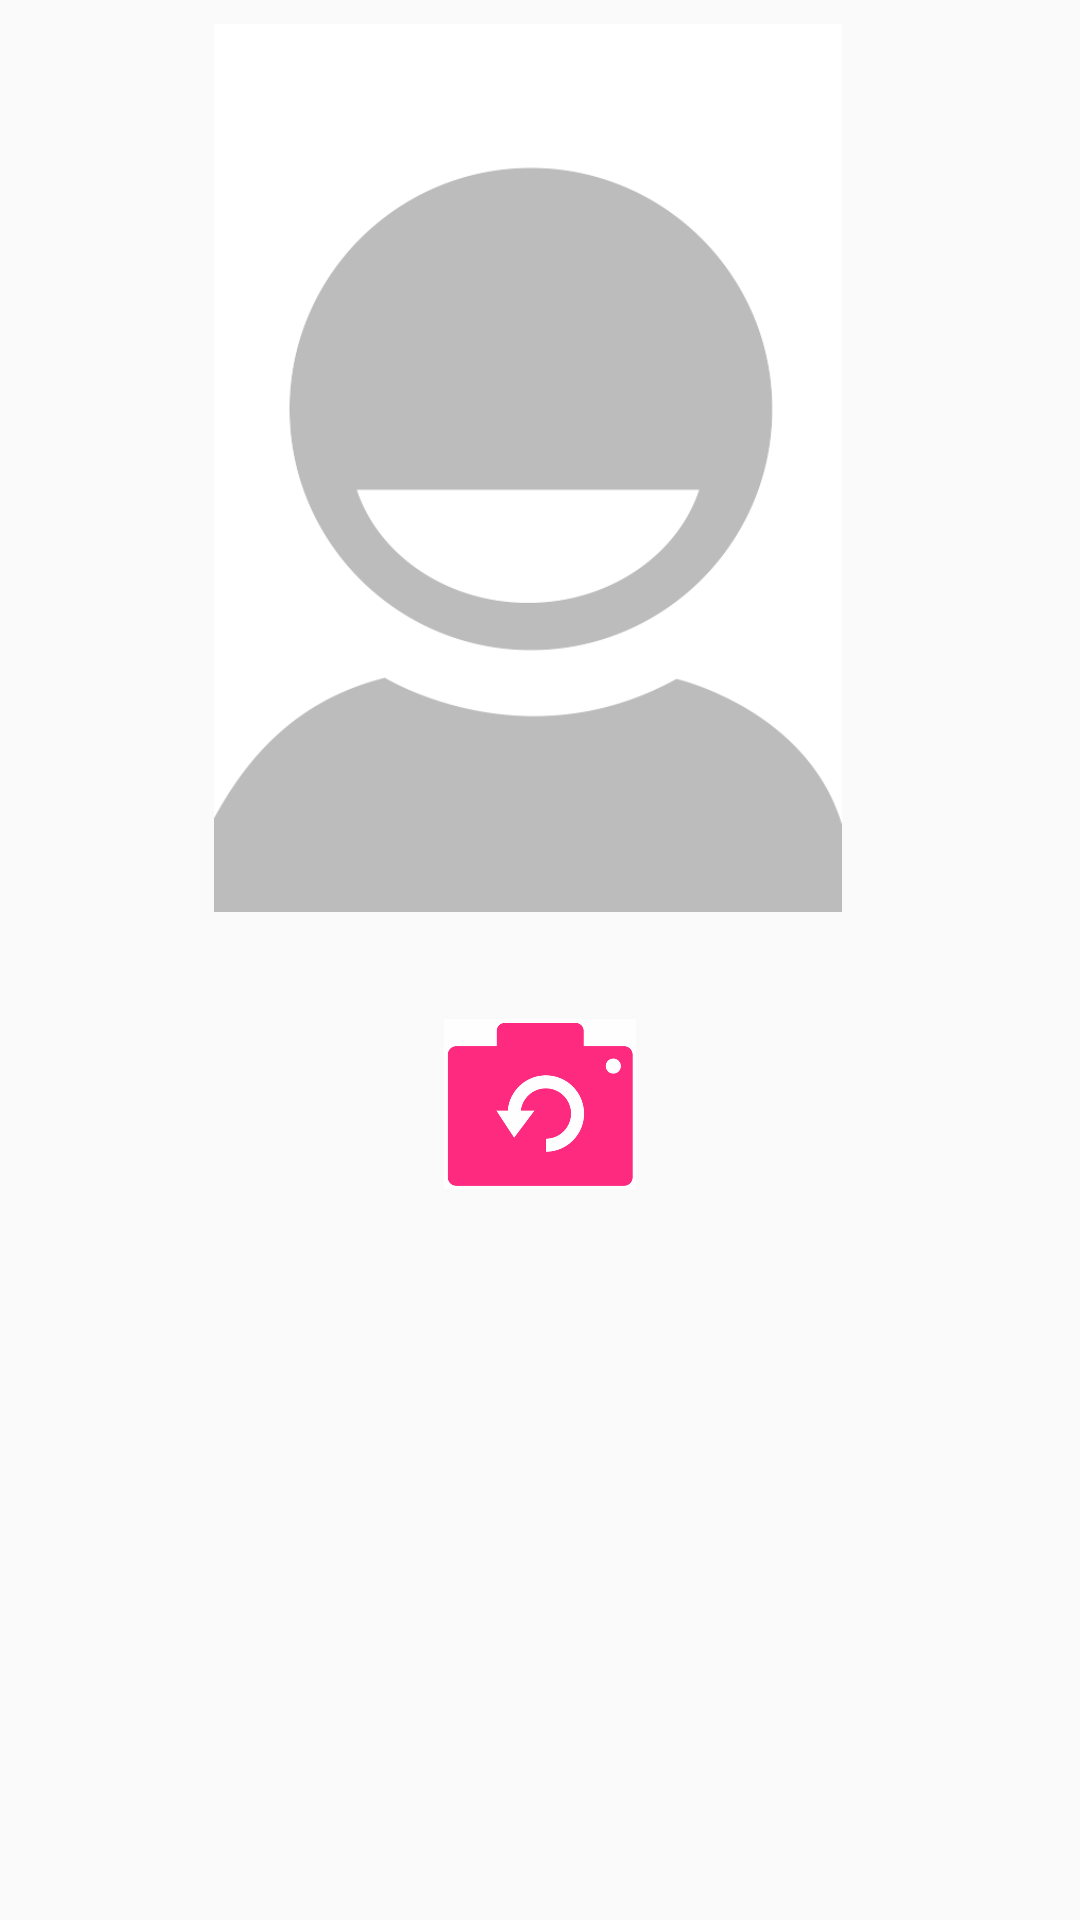

Point at icon controls on the screen. Image size 1080w x 1920h, points as (x,y).
retake: (540,1104)
